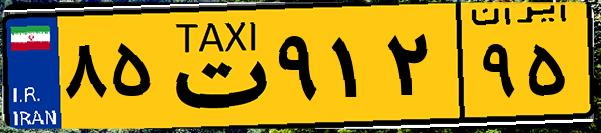1: (330, 28, 385, 110)
2: (385, 28, 445, 110)
5: (525, 38, 570, 115), (110, 28, 158, 98)
8: (57, 26, 110, 100)
9: (270, 28, 330, 110), (475, 38, 525, 113)
ت: (158, 12, 270, 120)
